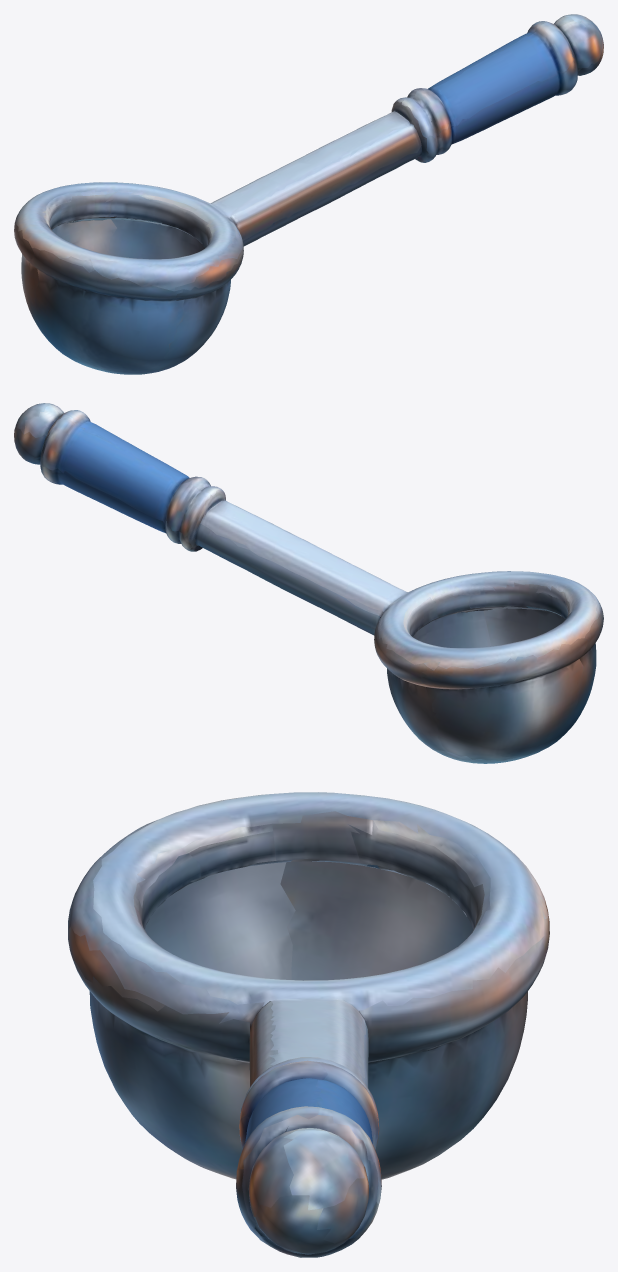
The model's file is naiwa_ladle.glb.
3 views of the same model, one above another, from view 1: azimuth 30°, elevation 25°; view 2: azimuth 150°, elevation 25°; view 3: azimuth 270°, elevation 25° (orthographic). The views are drawn at different scales.
Visible parts, largest first — view 1: geometry_0; view 2: geometry_0; view 3: geometry_0.
Part boxes in pixels (box(x1,y1,x2,y2)): geometry_0: box(14, 14, 603, 374); geometry_0: box(14, 403, 603, 763); geometry_0: box(68, 792, 549, 1257).
Bounding box in the file's own units: 0.32 × 0.1255 × 0.1176.
1 material, 1 textured.
